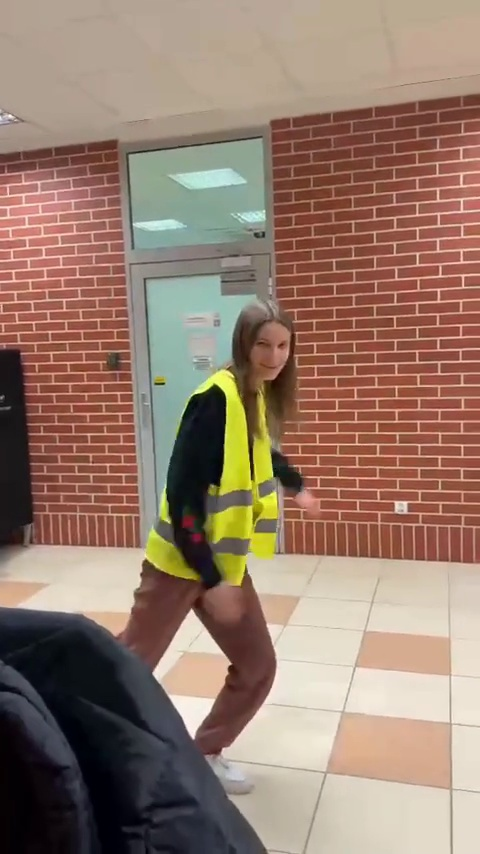vest: (145, 290, 313, 786)
